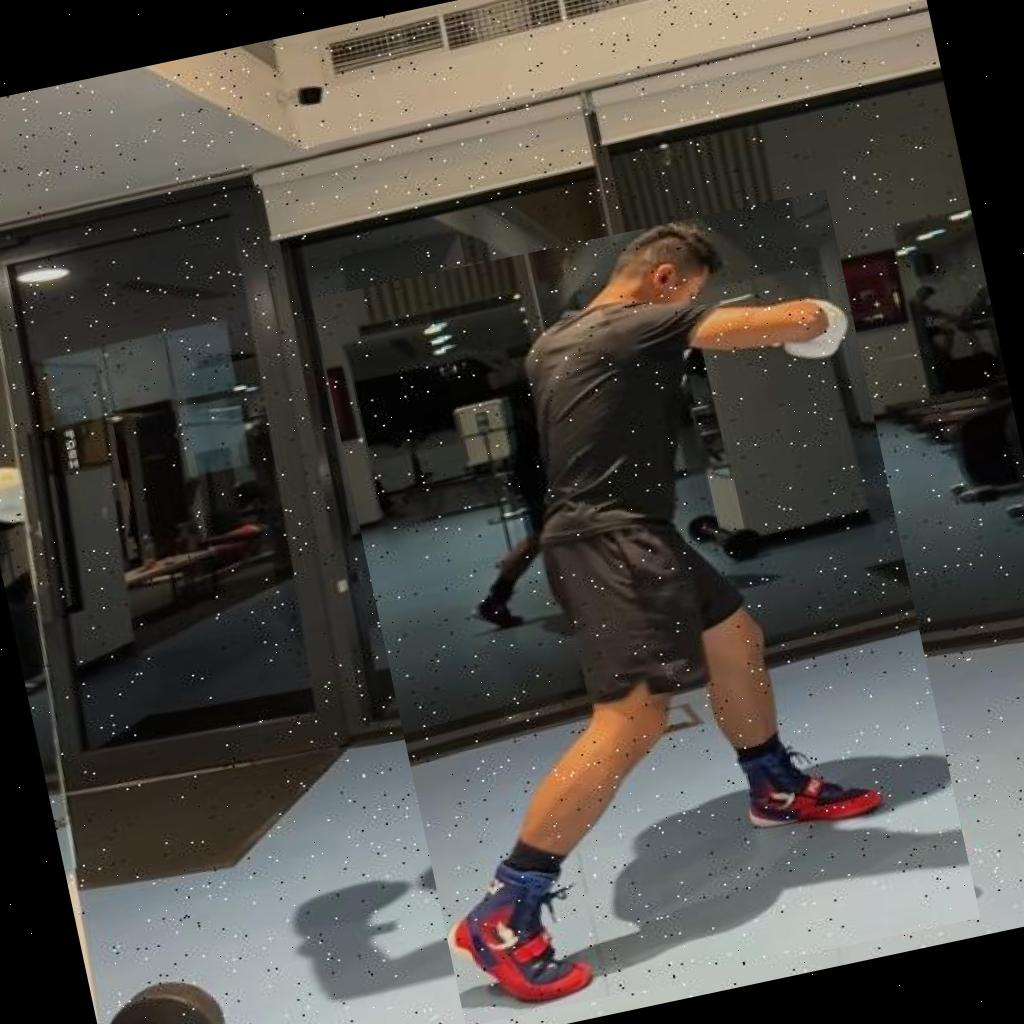hook: (311, 190, 980, 1024)
